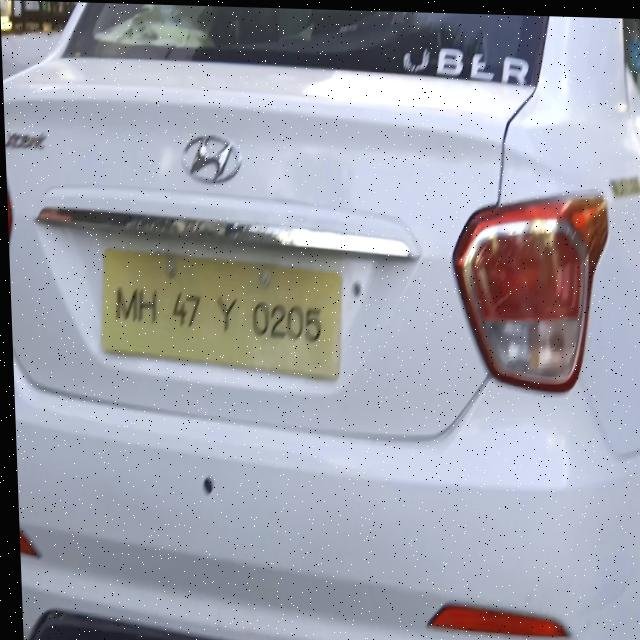plate: (95, 245, 343, 379)
